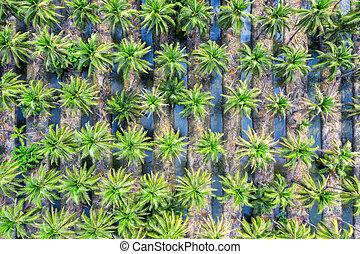coconut_tree: (28, 29, 74, 73), (313, 37, 357, 81), (53, 73, 99, 112), (153, 125, 199, 164), (109, 123, 155, 162), (69, 119, 115, 158), (11, 73, 57, 112), (102, 82, 148, 121), (17, 162, 63, 201), (283, 129, 329, 168), (239, 129, 285, 168), (190, 120, 236, 159), (132, 168, 178, 207), (96, 164, 142, 203), (62, 161, 108, 200), (292, 171, 338, 210), (254, 172, 300, 211), (216, 167, 262, 206), (107, 34, 151, 74), (0, 202, 45, 241), (189, 37, 230, 78), (148, 40, 189, 80), (229, 39, 271, 78), (78, 27, 109, 75), (272, 42, 312, 79), (44, 203, 81, 238), (256, 85, 293, 120), (307, 85, 344, 120), (256, 1, 293, 36), (219, 80, 256, 115), (175, 82, 212, 117), (216, 0, 253, 34), (139, 0, 176, 34), (100, 0, 137, 34), (62, 0, 99, 34), (22, 0, 59, 34), (299, 0, 336, 34), (145, 212, 187, 239), (77, 206, 113, 237), (235, 211, 272, 238), (195, 212, 232, 238), (112, 202, 141, 235), (276, 213, 312, 237)
